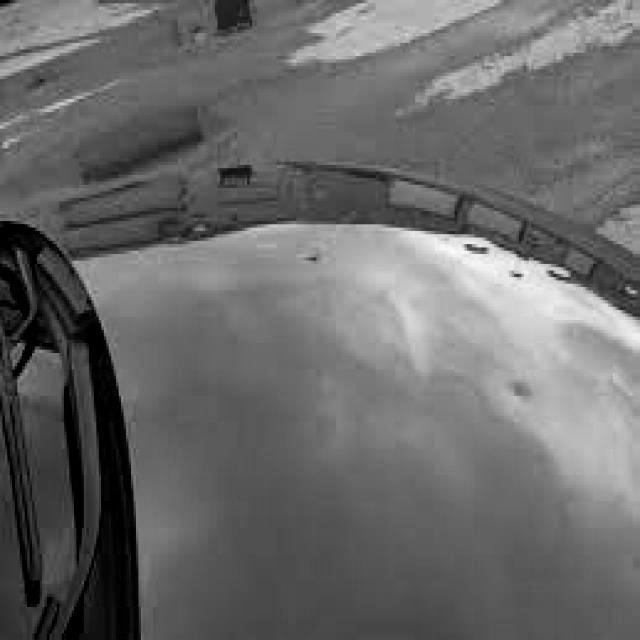bonnet-dent: (3, 156, 638, 545)
